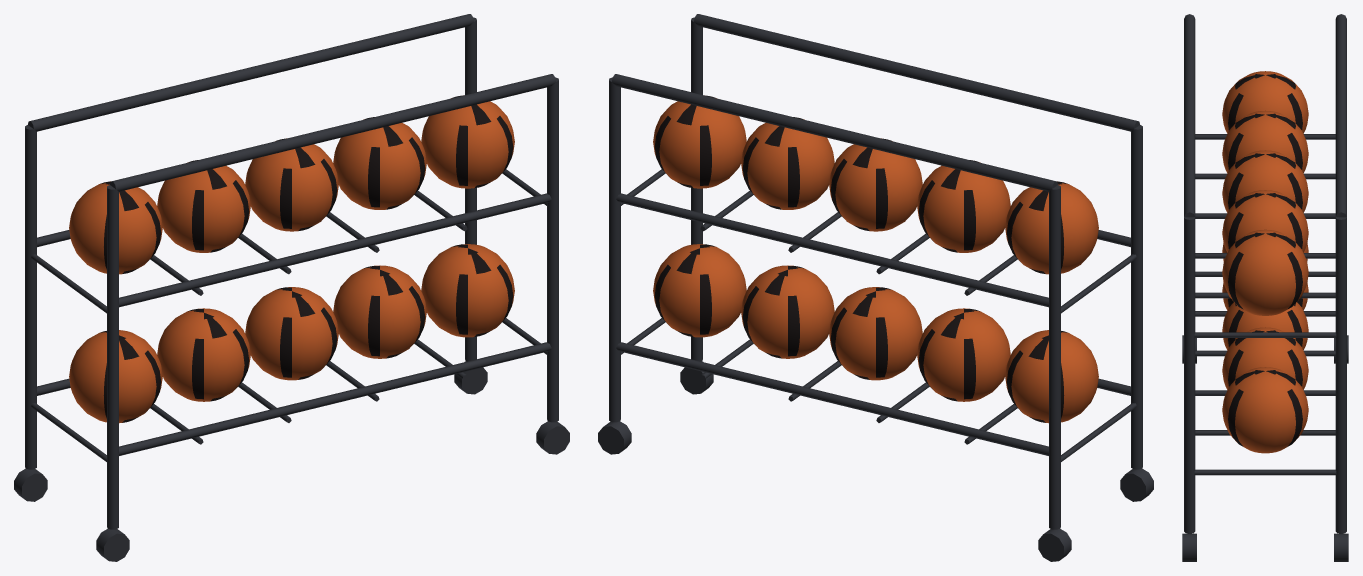
Rendered from gb-ballcart.glb.
The picture shows the model from 3 angles, left to right: view 1: azimuth 30°, elevation 25°; view 2: azimuth 150°, elevation 25°; view 3: azimuth 270°, elevation 25°; orthographic projection. The views are drawn at different scales.
Parts seen in each view (by area): view 1: gb-ballcart; view 2: gb-ballcart; view 3: gb-ballcart.
Boxes of the visible parts, box(x1,y1,x2,y2) form: gb-ballcart: box(14, 14, 569, 561); gb-ballcart: box(598, 14, 1153, 561); gb-ballcart: box(1182, 14, 1348, 561).
Size of the model in its own units: 1.38 by 1.07 by 0.46.
